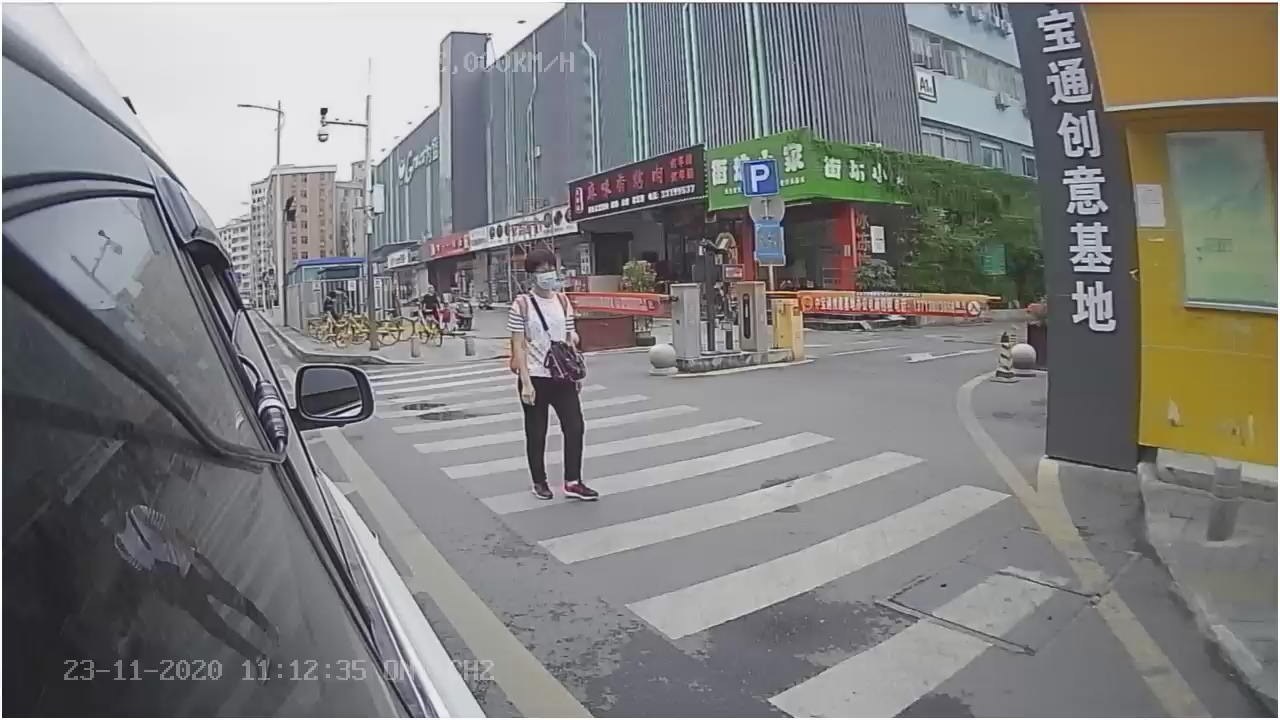person: (502, 248, 607, 514)
